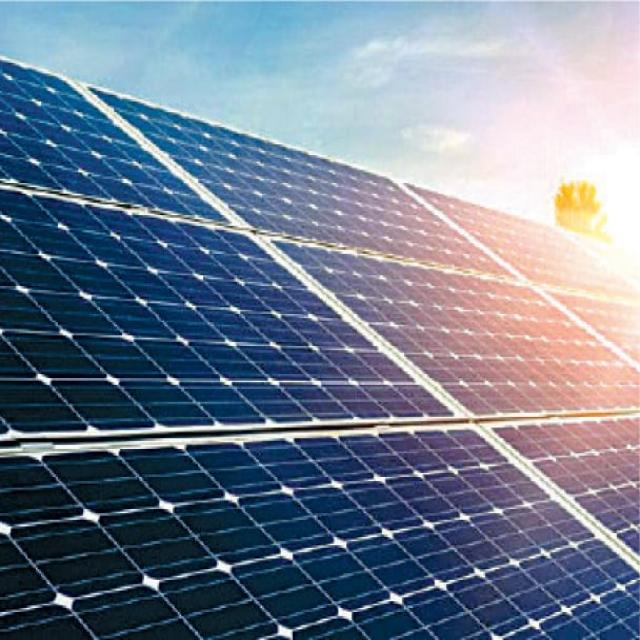clean-solar-panel: (1, 59, 640, 636)
